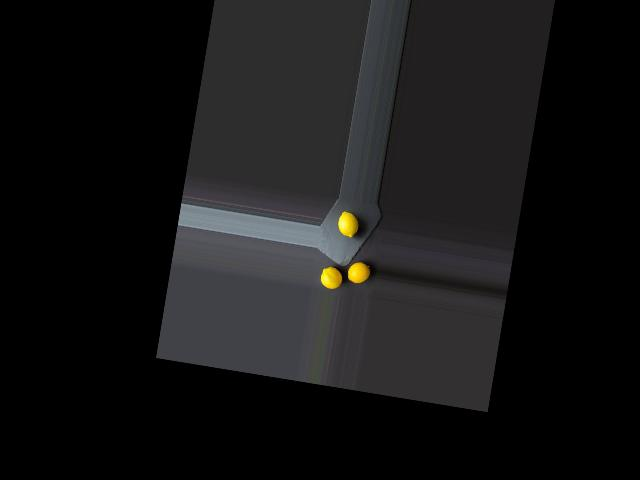lemon: (318, 263, 345, 291)
